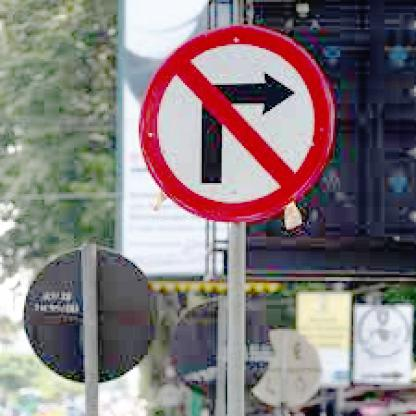No right turn: (138, 27, 324, 224)
